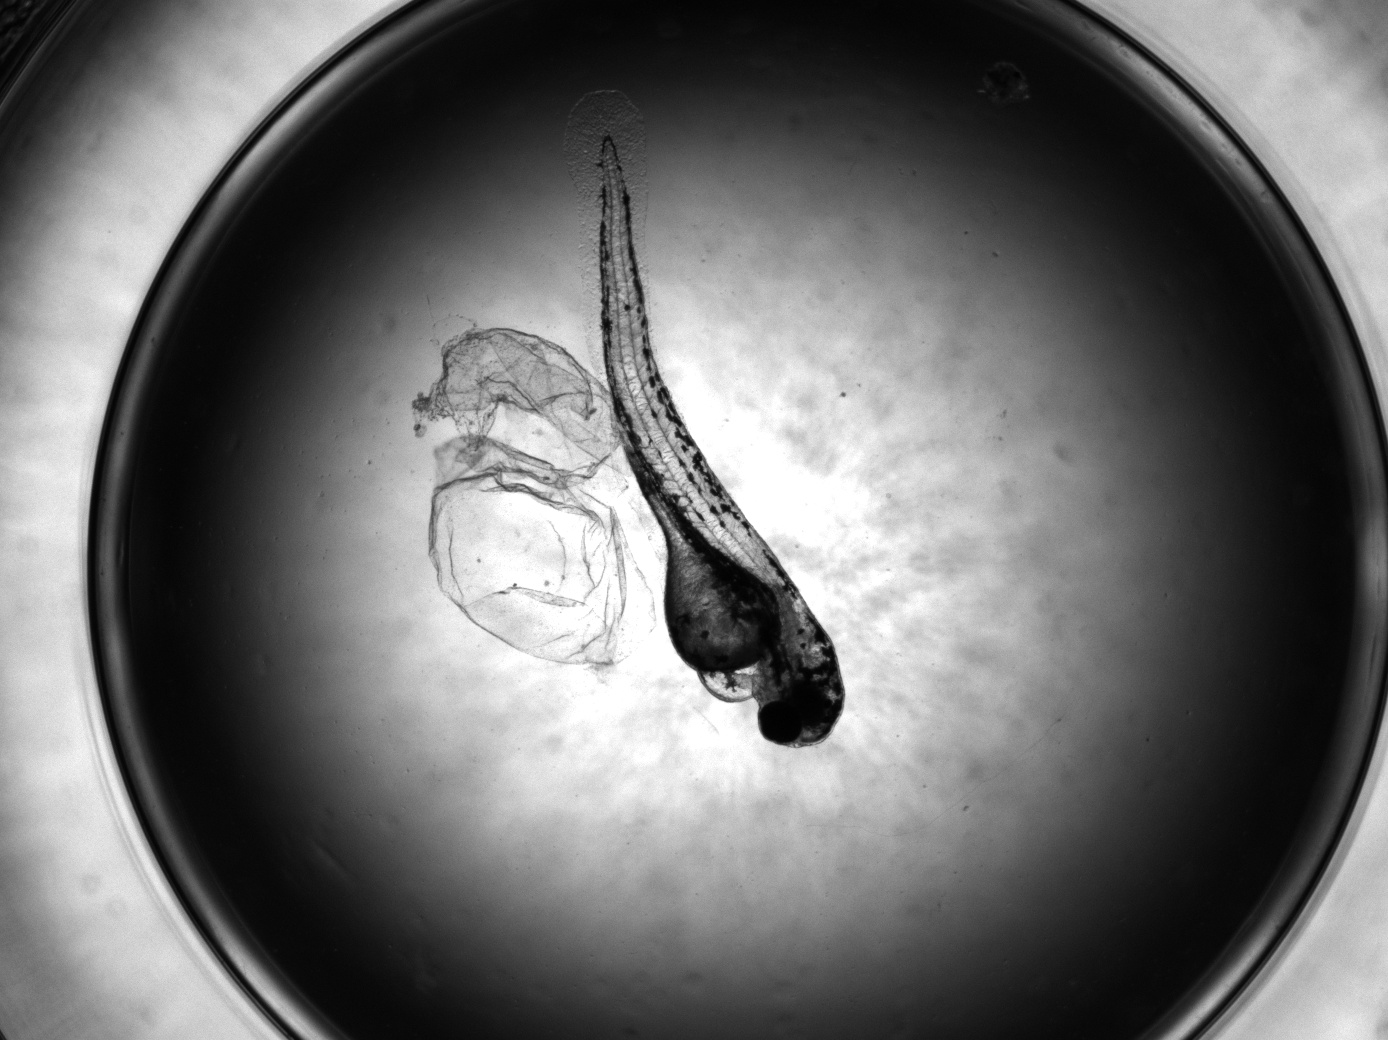debris: (415, 328, 644, 669)
embryo: (600, 137, 846, 751)
eye: (761, 702, 802, 744)
yolksac: (659, 522, 784, 700)
